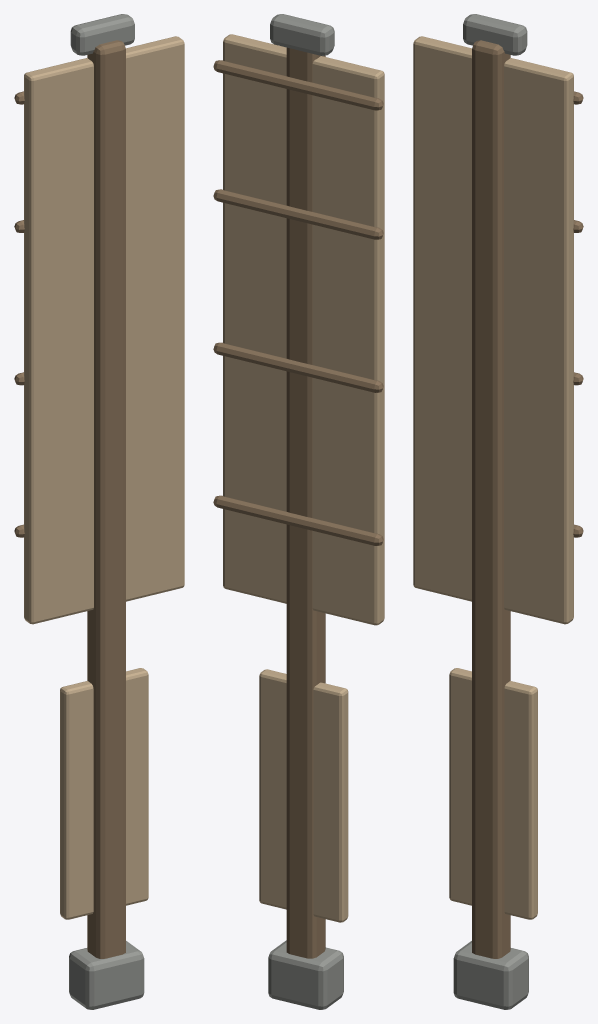
The model's file is rv_windmill_blade.gltf.
The picture shows the model from 3 angles, left to right: view 1: azimuth 30°, elevation 25°; view 2: azimuth 150°, elevation 25°; view 3: azimuth 330°, elevation 25°; orthographic projection.
Visible parts, largest first — view 1: RV_WindmillBlade; view 2: RV_WindmillBlade; view 3: RV_WindmillBlade.
Part boxes in pixels (left/top/right/bottom): RV_WindmillBlade: left=14, top=14, right=184, bottom=1009; RV_WindmillBlade: left=213, top=14, right=384, bottom=1009; RV_WindmillBlade: left=413, top=14, right=583, bottom=1009.
Bounding box in the file's own units: 0.52 × 2.88 × 0.12.
